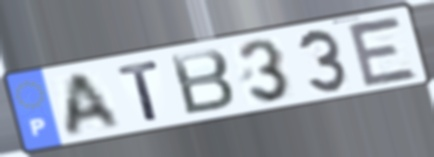3: (235, 36, 296, 106), (297, 26, 349, 96)
A: (64, 69, 125, 139)
B: (167, 47, 238, 118)
E: (343, 14, 422, 89)
T: (115, 58, 163, 123)
